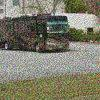buses: (0, 15, 73, 52)
